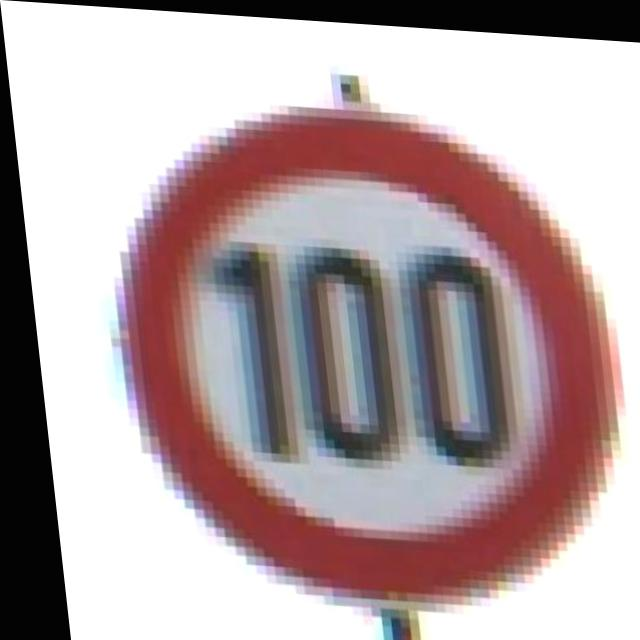limit100: (72, 83, 640, 615)
